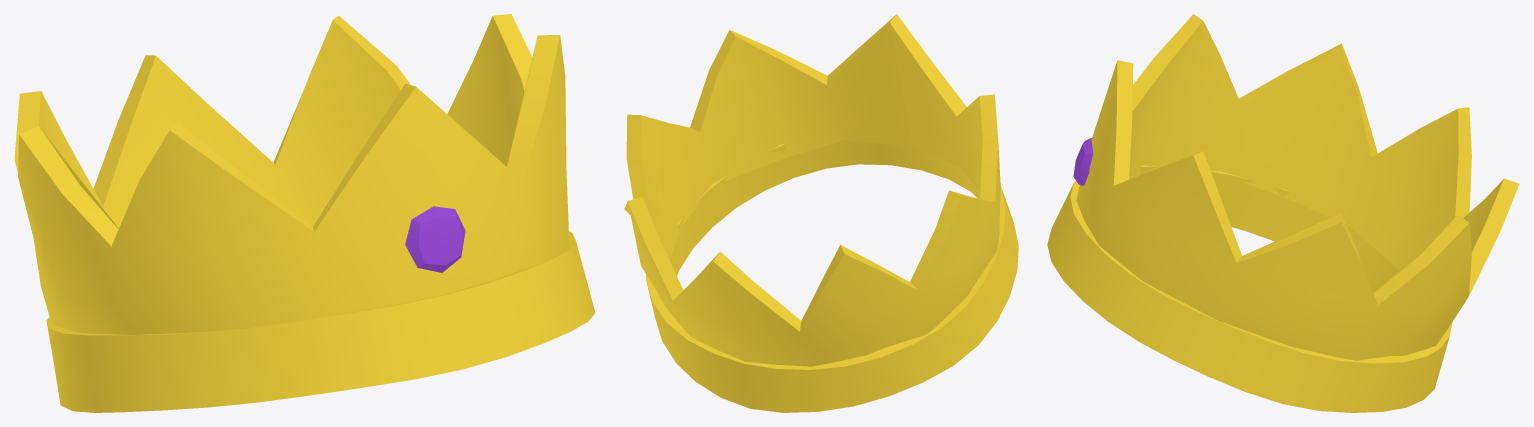
Rendered from accessory-crown.glb.
The picture shows the model from 3 angles, left to right: view 1: azimuth 30°, elevation 25°; view 2: azimuth 150°, elevation 25°; view 3: azimuth 270°, elevation 25°; orthographic projection. The views are drawn at different scales.
Visible parts, largest first — view 1: accessory__CROWN__0; view 2: accessory__CROWN__0; view 3: accessory__CROWN__0.
Part boxes in pixels (box(x1,y1,x2,y2)): accessory__CROWN__0: box(14, 14, 595, 412); accessory__CROWN__0: box(624, 14, 1018, 412); accessory__CROWN__0: box(1047, 14, 1519, 412).
Bounding box in the file's own units: 0.7392 × 0.607 × 0.8255.
